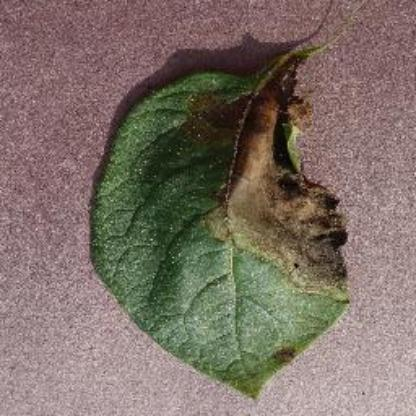Late-Blight: (91, 35, 366, 400)
